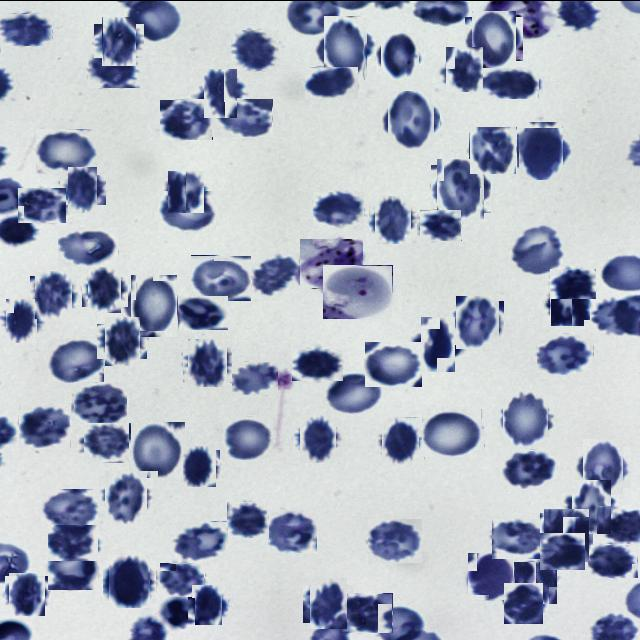red blood cell: (422, 407, 485, 456), (130, 422, 186, 476), (126, 278, 180, 332), (319, 20, 373, 74), (434, 161, 488, 215), (384, 94, 438, 146), (191, 254, 252, 300), (36, 128, 98, 173), (511, 224, 566, 274), (514, 124, 566, 176), (468, 12, 520, 64), (500, 393, 552, 445), (365, 341, 422, 386), (542, 510, 592, 560), (48, 338, 104, 382), (158, 190, 216, 232), (72, 381, 126, 426), (212, 97, 274, 136), (58, 226, 118, 266), (325, 372, 382, 414), (41, 488, 98, 530), (537, 332, 594, 374), (172, 520, 229, 562), (265, 507, 318, 552), (368, 518, 422, 562), (105, 557, 154, 605), (453, 298, 502, 346), (579, 442, 627, 490), (102, 472, 150, 520), (568, 482, 616, 530), (19, 403, 71, 447), (468, 552, 514, 600), (222, 416, 273, 459), (502, 449, 558, 488), (160, 98, 213, 139), (469, 126, 516, 172), (48, 546, 98, 589), (340, 592, 393, 632), (306, 580, 351, 626), (228, 29, 278, 70), (492, 518, 543, 558), (416, 320, 460, 366), (313, 191, 364, 230), (186, 339, 230, 384), (33, 272, 76, 316), (88, 51, 140, 87), (482, 66, 540, 98), (296, 416, 339, 459), (378, 34, 422, 76), (82, 422, 128, 462), (379, 420, 422, 462), (98, 19, 140, 62), (101, 319, 143, 362), (251, 254, 296, 294), (48, 524, 98, 560), (372, 198, 414, 240), (514, 561, 556, 603), (18, 186, 67, 222), (0, 12, 53, 45), (444, 48, 485, 90), (200, 72, 241, 114), (538, 532, 584, 569), (588, 543, 638, 577), (178, 295, 228, 329), (305, 66, 358, 98), (292, 348, 343, 380), (547, 282, 587, 322), (7, 573, 47, 613), (85, 269, 125, 309), (166, 170, 206, 210), (504, 582, 543, 623), (227, 500, 270, 537), (160, 562, 205, 596), (232, 361, 278, 394), (3, 301, 41, 339), (64, 170, 102, 208), (180, 446, 218, 484), (550, 268, 596, 298), (420, 208, 462, 240), (190, 586, 226, 622), (158, 597, 195, 627)
ring: (323, 264, 393, 318)
trophozoite: (300, 238, 363, 287)
